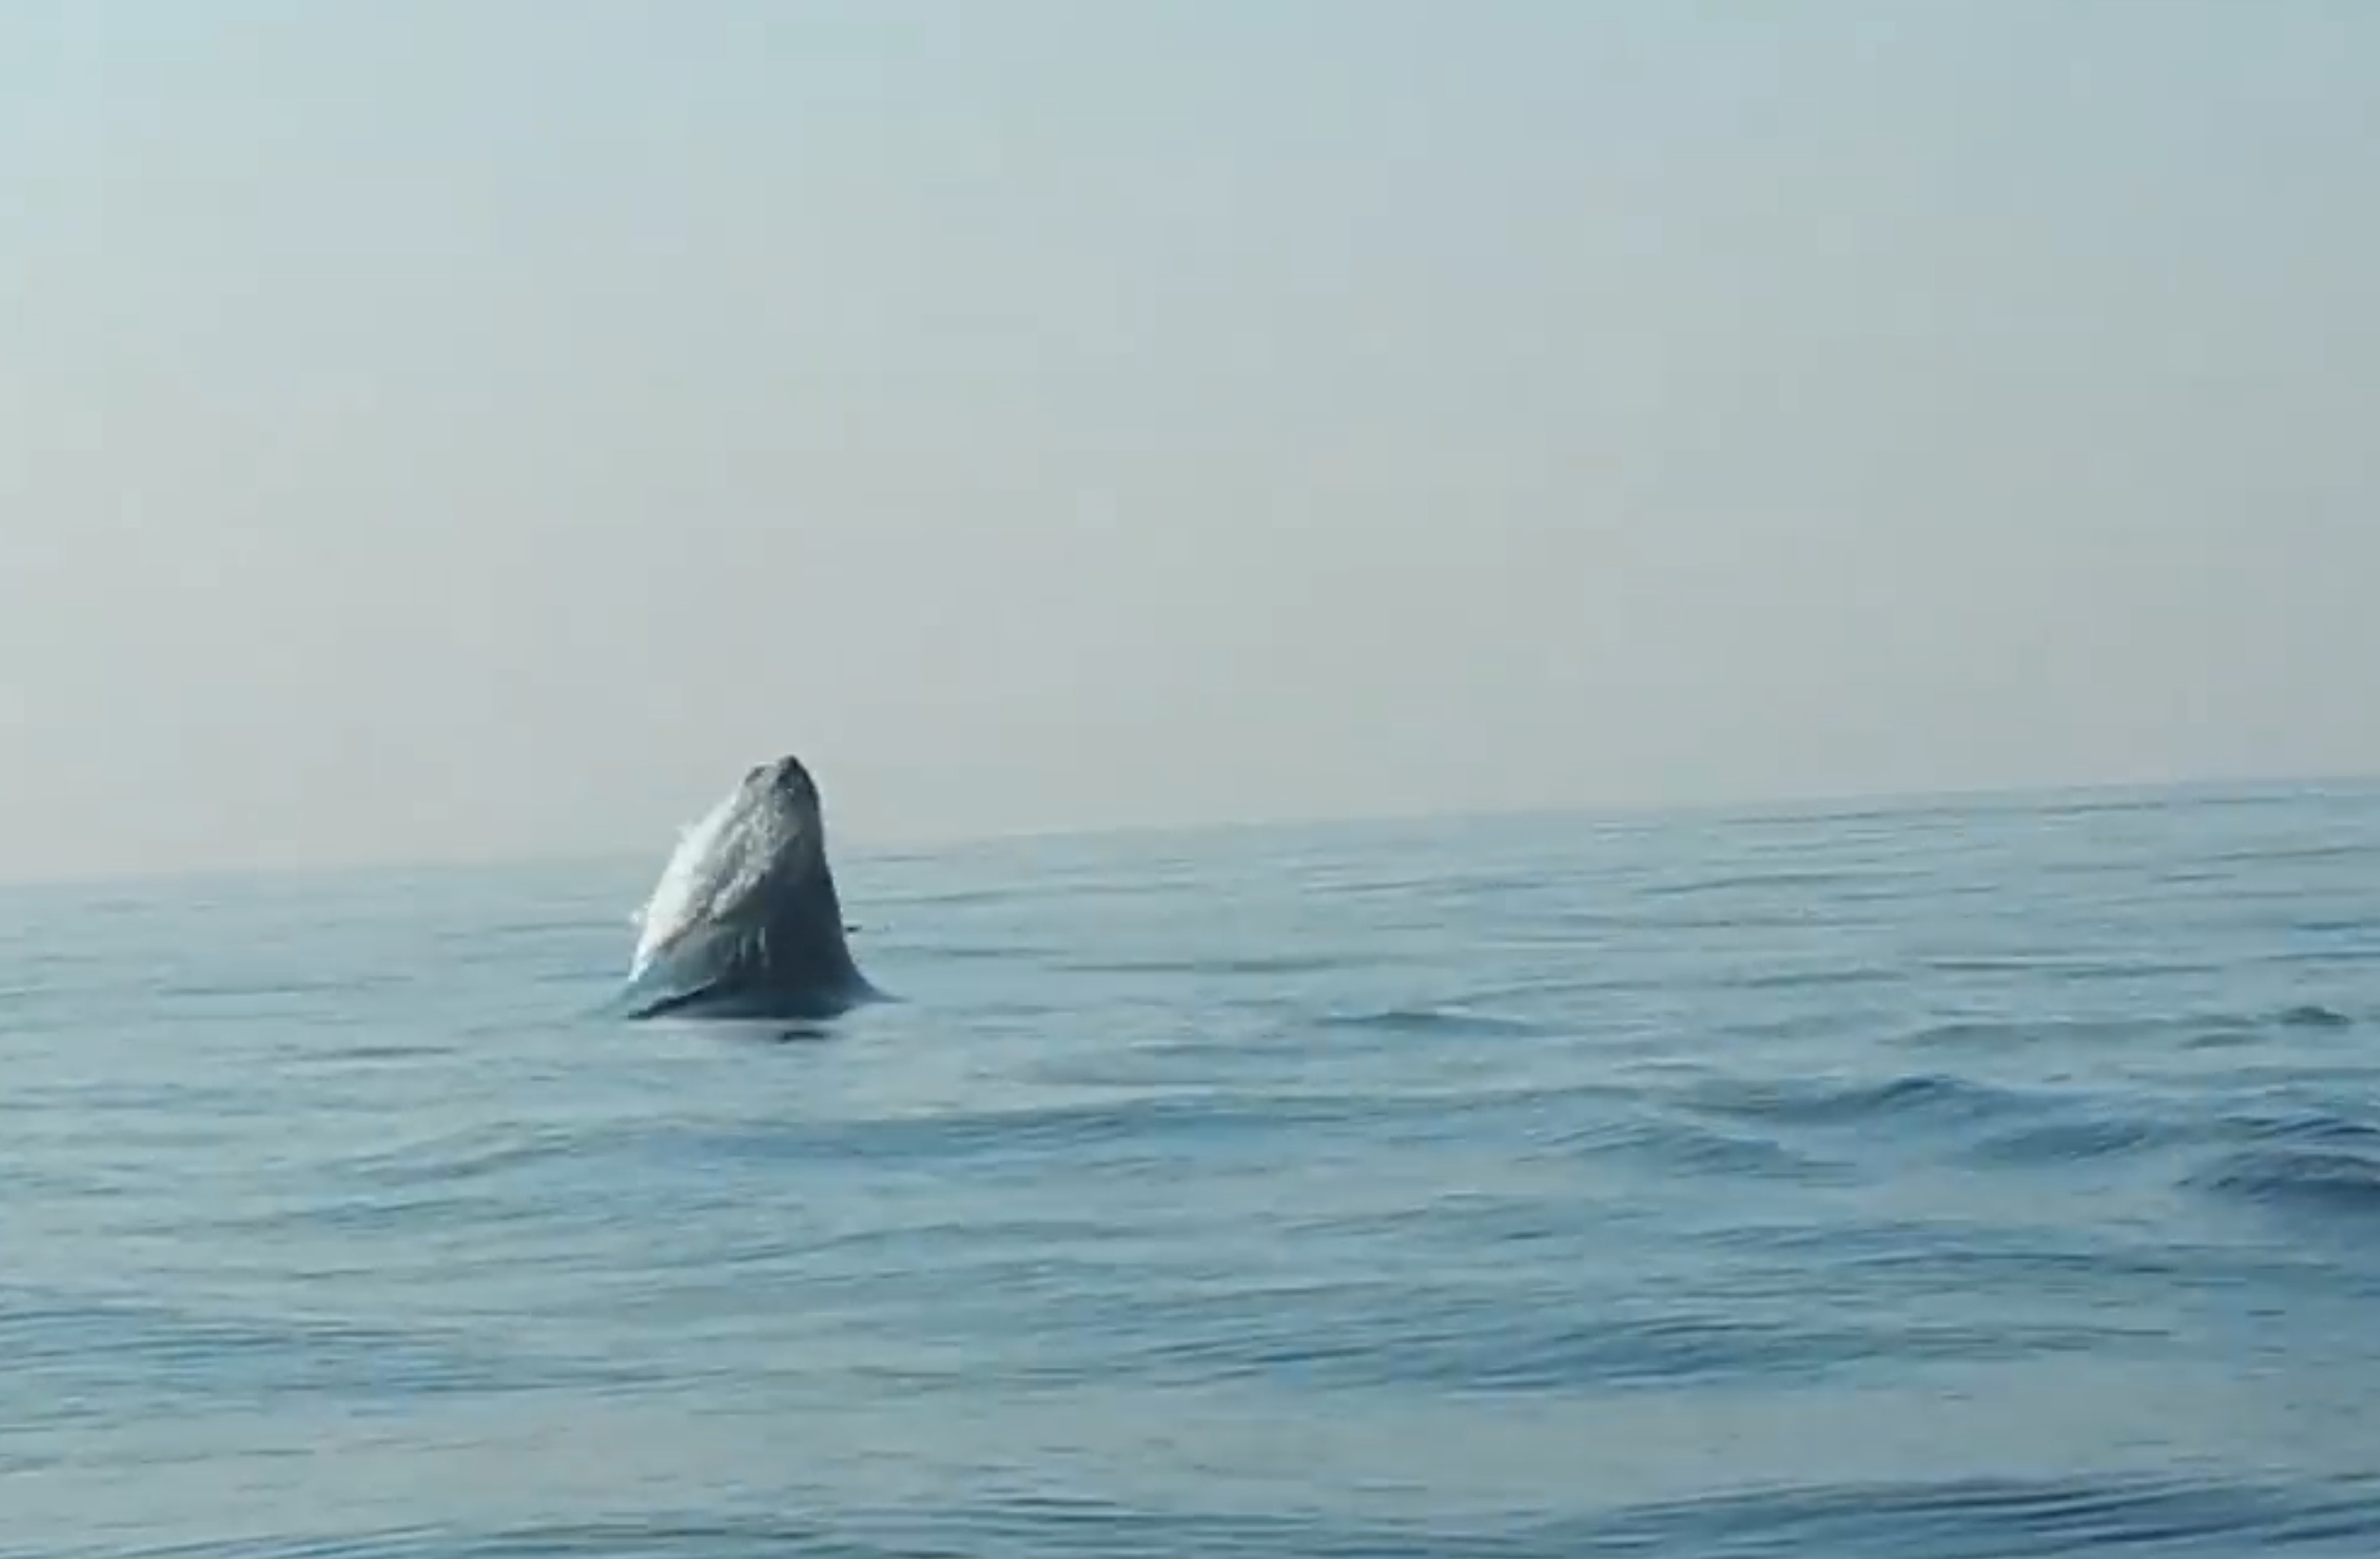humpback: (630, 753, 870, 1018)
